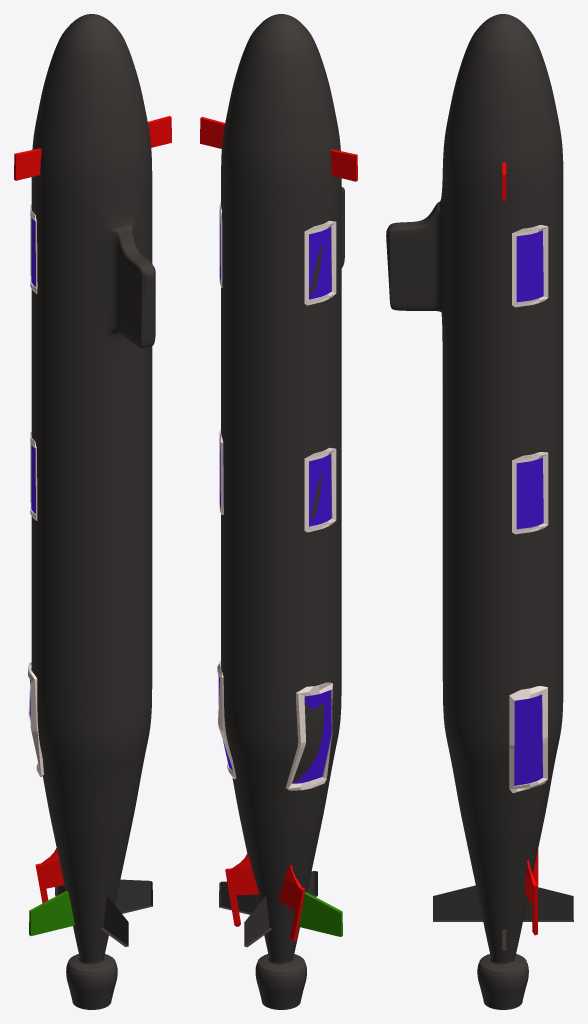
The model's file is Submarino.fbx.
The picture shows the model from 3 angles, left to right: view 1: azimuth 30°, elevation 25°; view 2: azimuth 150°, elevation 25°; view 3: azimuth 270°, elevation 25°; orthographic projection.
Parts seen in each view (by area): view 1: Submarino.001; view 2: Submarino.001; view 3: Submarino.001.
Part boxes in pixels (x1,y1,x2,y2): Submarino.001: [14, 14, 171, 1009]; Submarino.001: [200, 14, 357, 1009]; Submarino.001: [386, 14, 573, 1009].
Bounding box in the file's own units: 792 × 4784 × 825.
